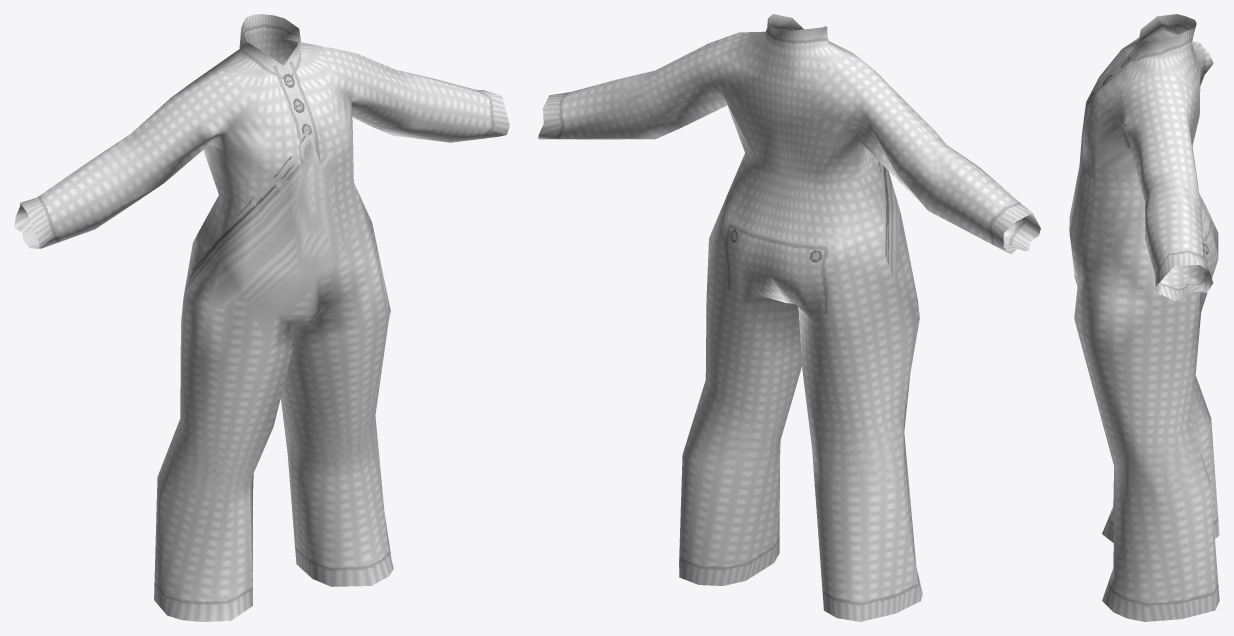
Rendered from LongJohns.glb.
3 renders of one model, left to right at view 1: azimuth 30°, elevation 25°; view 2: azimuth 150°, elevation 25°; view 3: azimuth 270°, elevation 25°, orthographic. The views are drawn at different scales.
Parts seen in each view (by area): view 1: LongJohns; view 2: LongJohns; view 3: LongJohns.
Part boxes in pixels (<box>): LongJohns: <box>14,14,509,621</box>; LongJohns: <box>538,14,1040,621</box>; LongJohns: <box>1069,14,1219,621</box>.
Size of the model in its own units: 16.46 by 18.36 by 4.59.
1 material, 1 textured.
